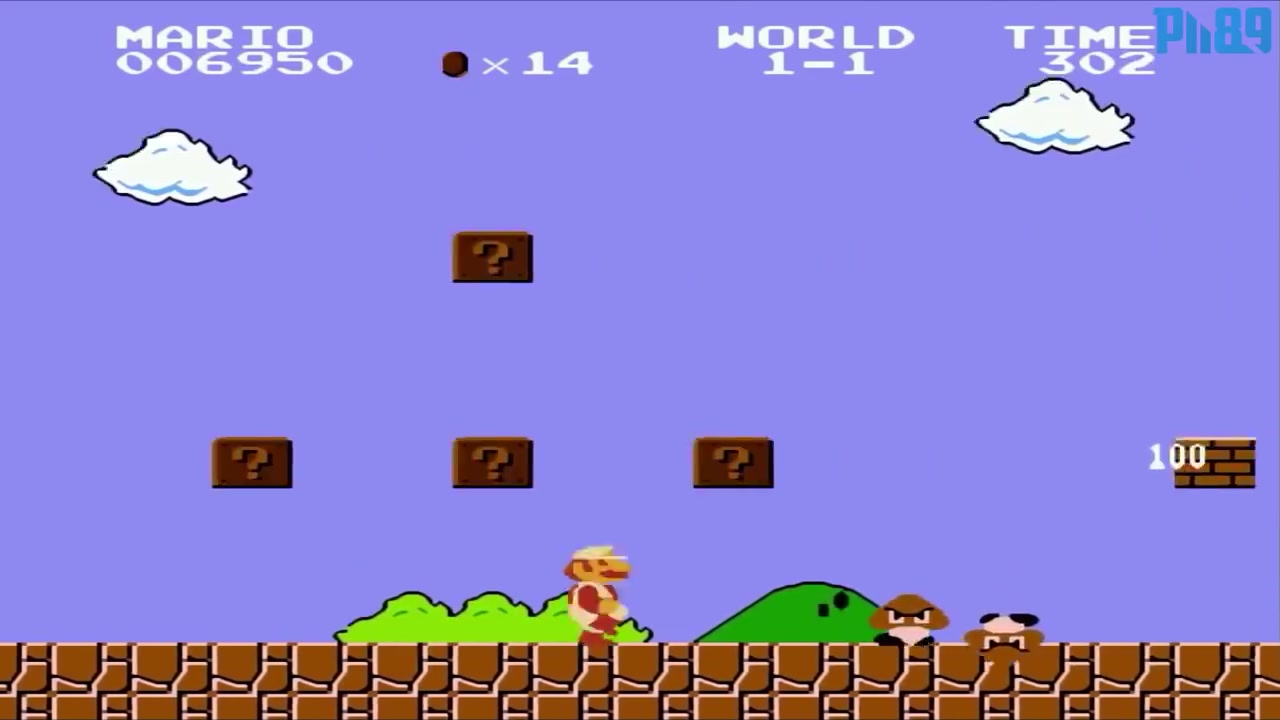mario: (543, 533, 639, 647)
